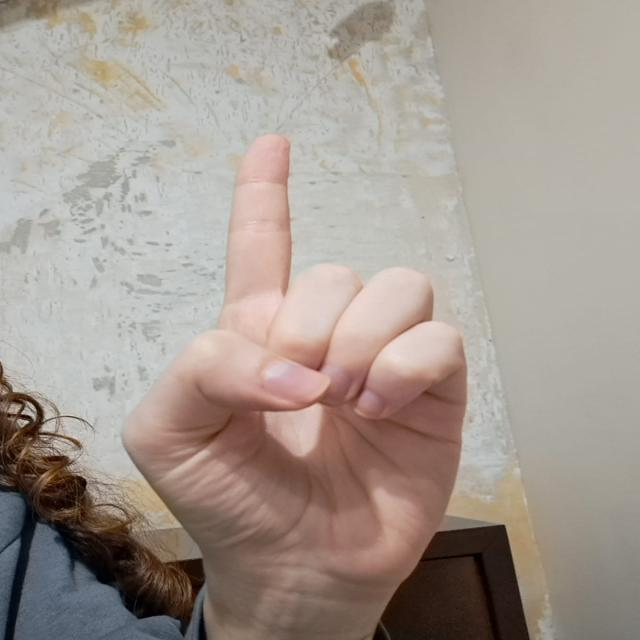D2: (91, 118, 528, 624)
